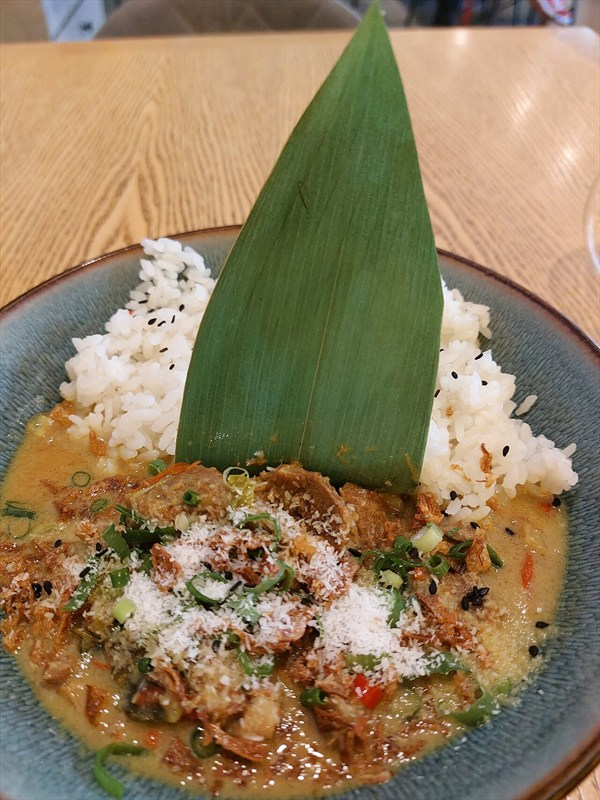Rendang: (62, 165, 531, 755)
